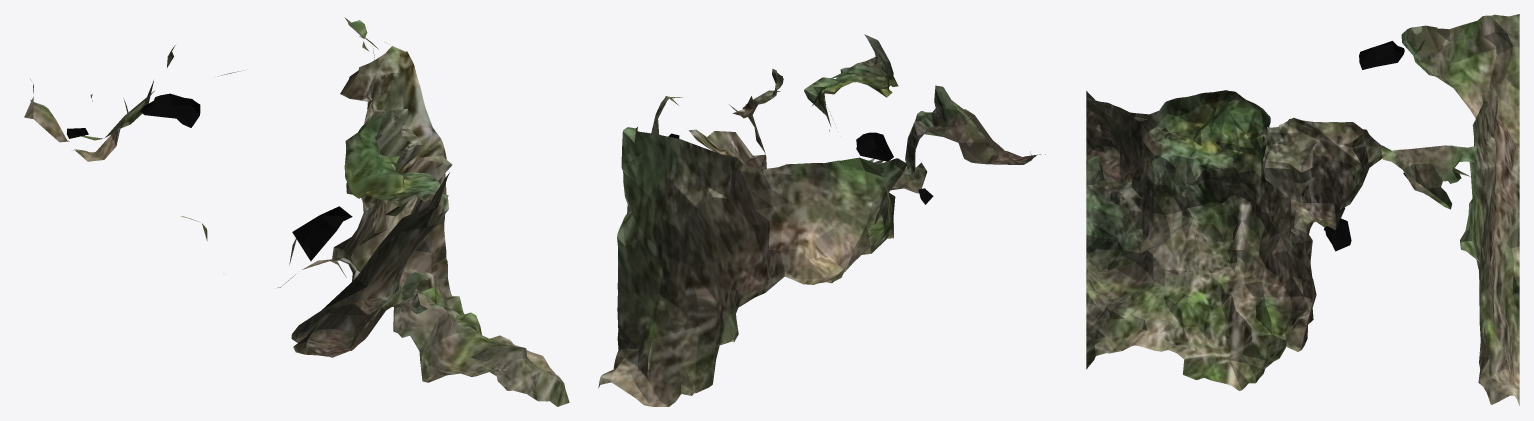
The picture shows the model from 3 angles, left to right: view 1: azimuth 30°, elevation 25°; view 2: azimuth 150°, elevation 25°; view 3: azimuth 270°, elevation 25°; orthographic projection. The views are drawn at different scales.
Size of the model in its own units: 2.29 by 1.93 by 2.95.
3 materials, 3 textured.
